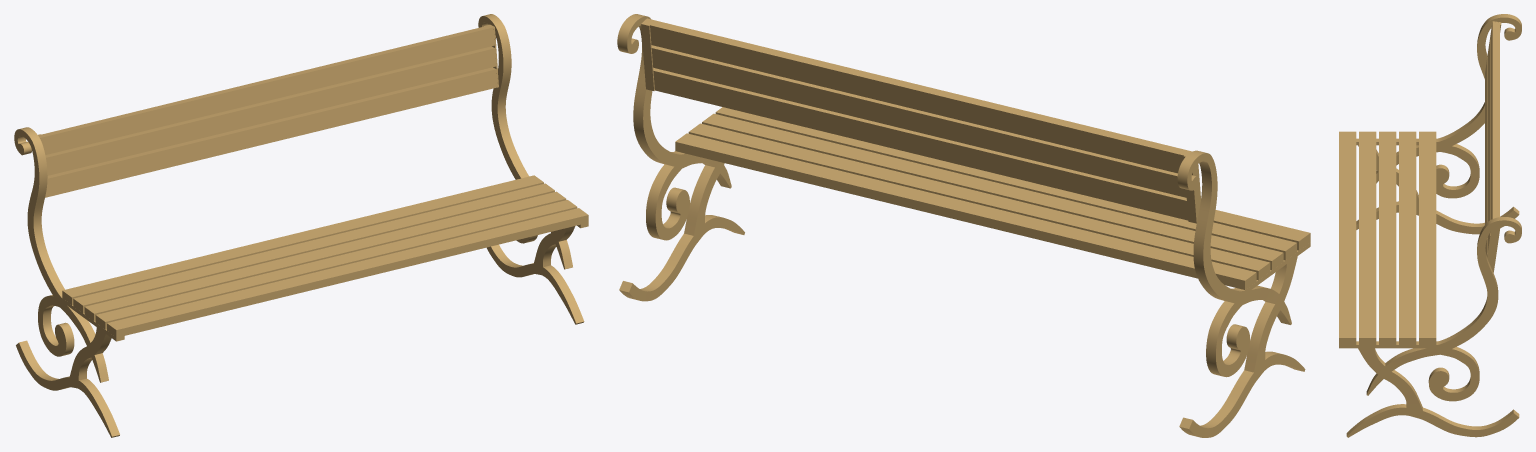
File: bench.glb
3 views of the same model, side by side, from view 1: azimuth 30°, elevation 25°; view 2: azimuth 150°, elevation 25°; view 3: azimuth 270°, elevation 25° (orthographic). The views are drawn at different scales.
Visible parts, largest first — view 1: uploads_files_3640189_street_bench_2; view 2: uploads_files_3640189_street_bench_2; view 3: uploads_files_3640189_street_bench_2.
Boxes of the visible parts, <box> form: uploads_files_3640189_street_bench_2: <box>14,14,588,437</box>; uploads_files_3640189_street_bench_2: <box>617,14,1310,437</box>; uploads_files_3640189_street_bench_2: <box>1339,14,1521,437</box>.
Bounding box in the file's own units: 278 × 136 × 104.
